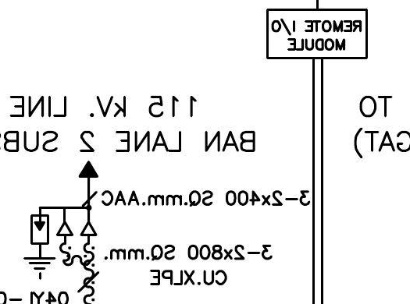115_la: (23, 214, 56, 280)
remote_io_module: (266, 9, 368, 60)
terminator_double: (55, 206, 98, 237)
